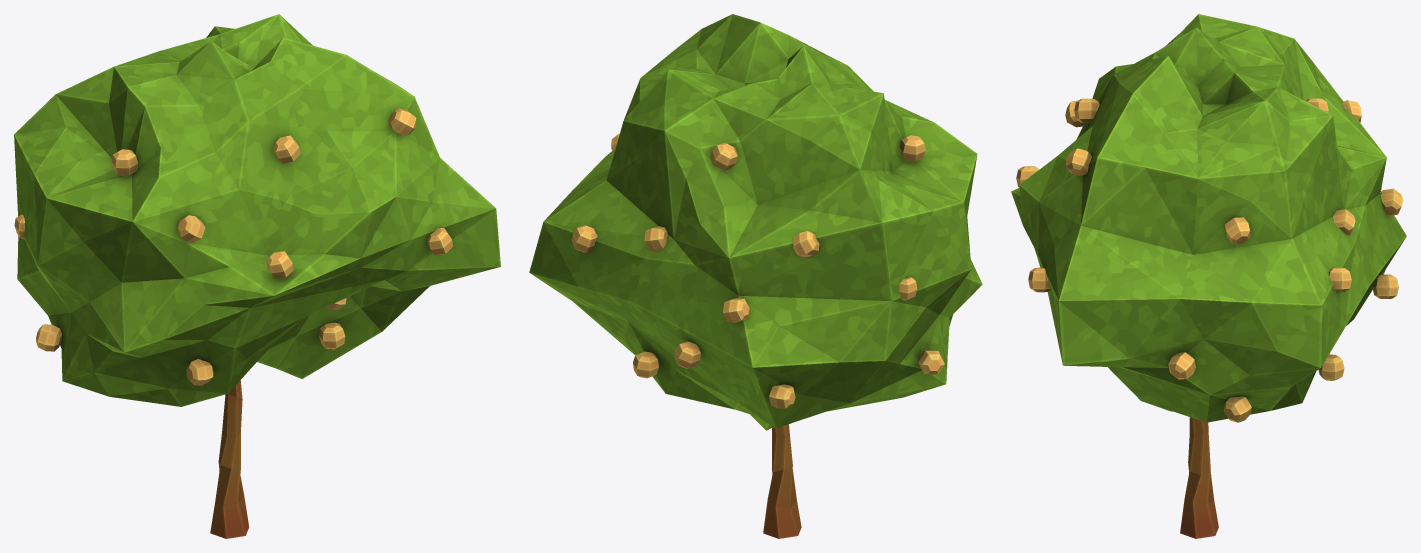
The model's file is OrangeTree.obj.
3 renders of one model, left to right at view 1: azimuth 30°, elevation 25°; view 2: azimuth 150°, elevation 25°; view 3: azimuth 270°, elevation 25°, orthographic.
Parts seen in each view (by area): view 1: OrangeTree; view 2: OrangeTree; view 3: OrangeTree.
Boxes of the visible parts, x1,y1,x2,y2 form: OrangeTree: (14,14,500,538); OrangeTree: (529,14,982,538); OrangeTree: (1011,14,1406,538).
Size of the model in its own units: 10.67 by 12.8 by 9.31.
1 material, 1 textured.
